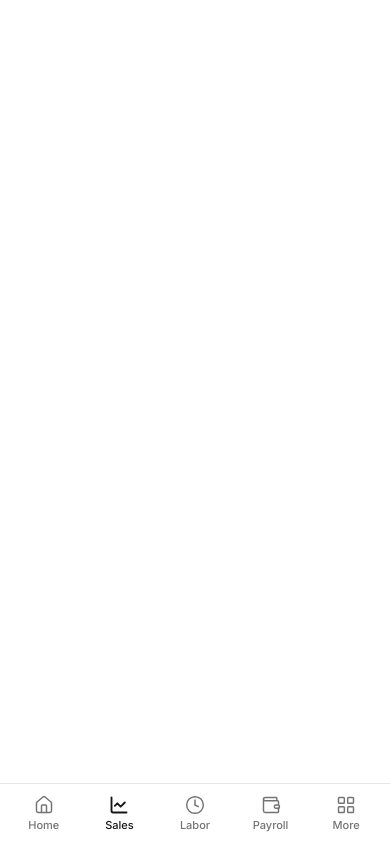
Test case: MobileTabBar › marks the current tab and lists every page under More
The image size is (390, 844).
Click the button with aria-label "More pages" at (346, 814), box [310,788,382,840]
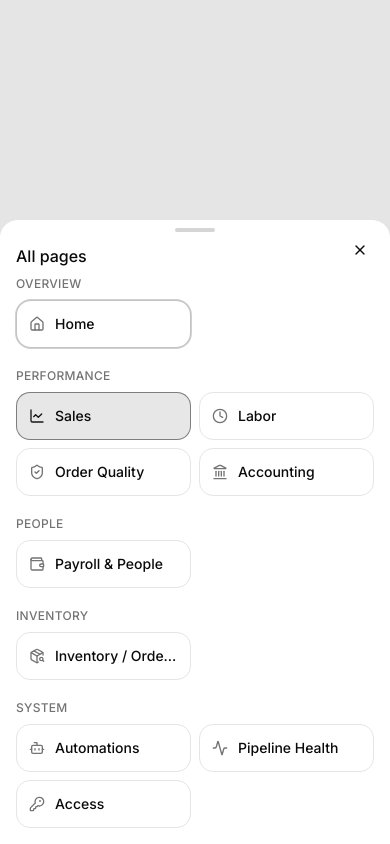
Expected: the heading "All pages" is shown, [16,246,87,266]
